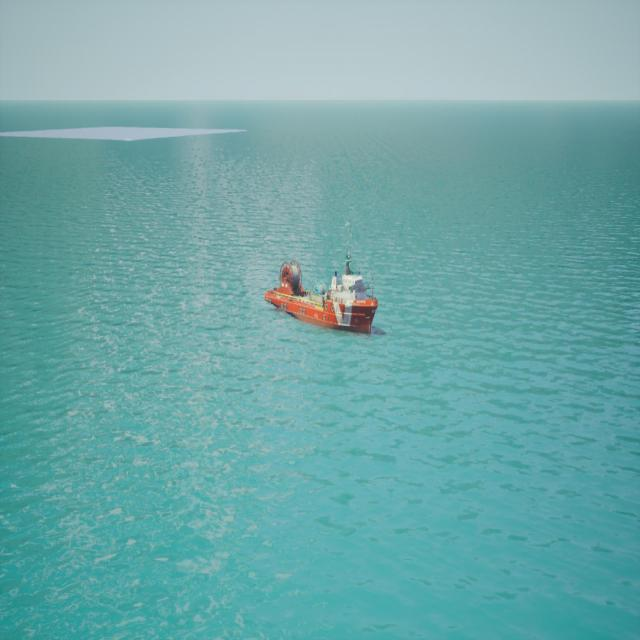tug boat: (265, 238, 380, 336)
